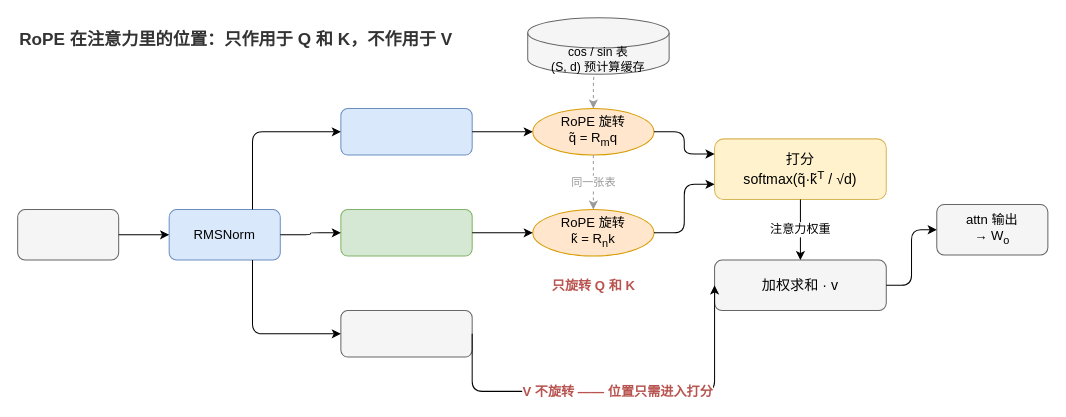
Image size: 1066x417. Some labels were removed from this diagram. The shapes that lost their labels are listed below. From the top down, each one's box as (x1, y1, x2, y2) in pixels, then its label:
(340, 108, 472, 155): W q → q (B, H, S, d)
(17, 209, 119, 260): x (B, S, D)
(340, 209, 472, 256): W k → k (B, H kv , S, d)
(340, 310, 472, 357): W v → v (B, H kv , S, d)
